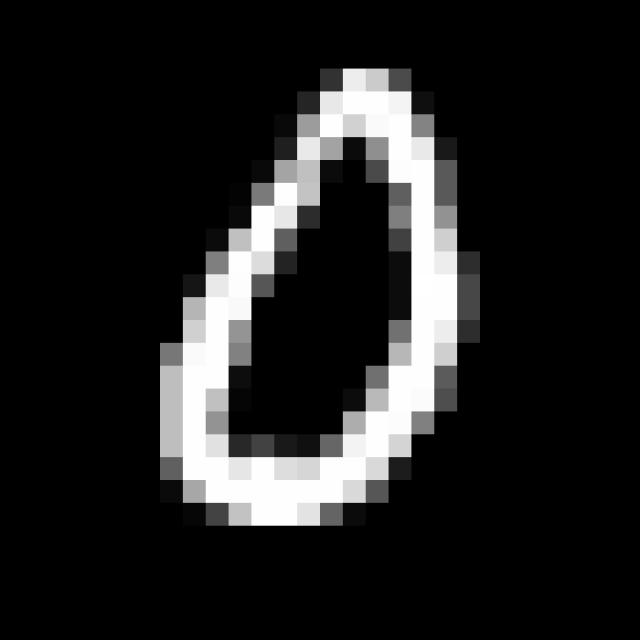zero -0-: (142, 55, 485, 541)
